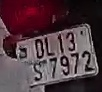1: (56, 33, 65, 56)
2: (80, 50, 94, 73)
3: (64, 31, 78, 51)
7: (69, 52, 81, 74), (49, 57, 58, 79)
9: (58, 54, 71, 79)
D: (33, 38, 45, 60)
L: (43, 37, 55, 58)
S: (29, 60, 43, 82)
